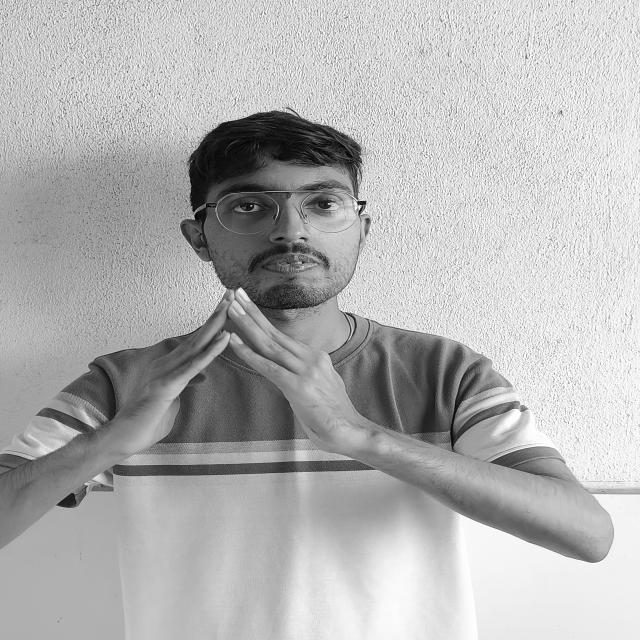Home: (72, 285, 419, 490)
